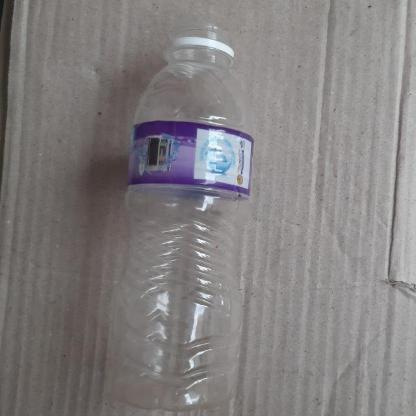Plastic Bottle: (110, 0, 262, 416)
